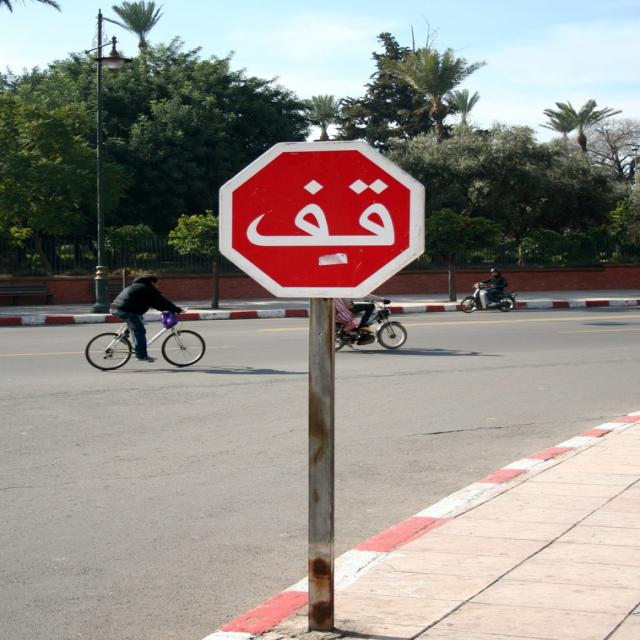Stop-sign: (216, 138, 429, 300)
